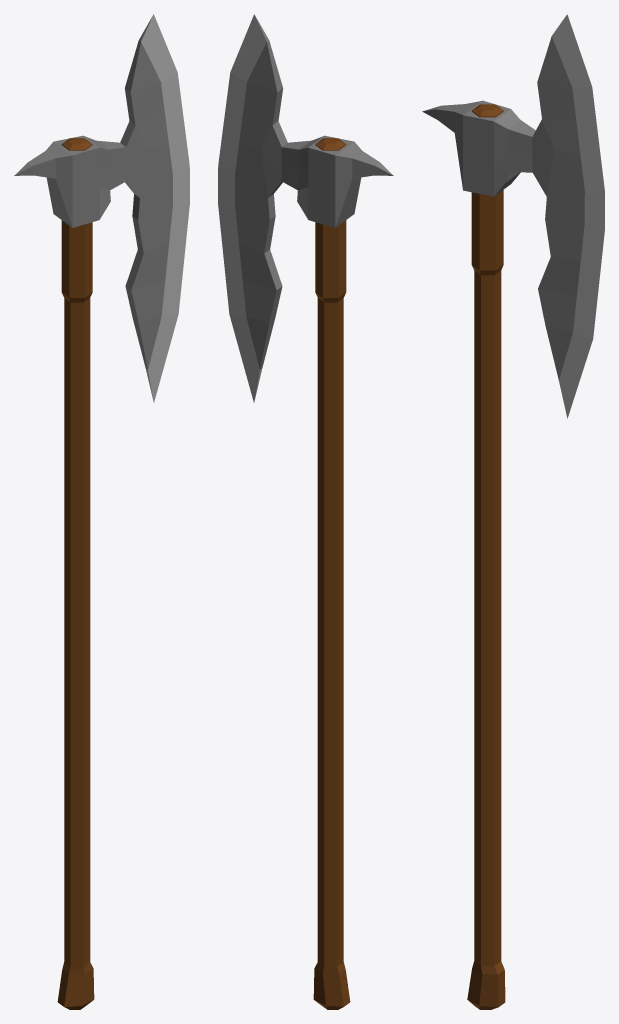
File: WarAxe.fbx
3 views of the same model, side by side, from view 1: azimuth 30°, elevation 25°; view 2: azimuth 150°, elevation 25°; view 3: azimuth 330°, elevation 25° (orthographic). The views are drawn at different scales.
Parts seen in each view (by area): view 1: War Axe; view 2: War Axe; view 3: War Axe.
Part boxes in pixels (left/top/right/bottom): War Axe: left=14, top=14, right=189, bottom=1009; War Axe: left=218, top=14, right=393, bottom=1009; War Axe: left=422, top=14, right=604, bottom=1009.
Size of the model in its own units: 37.52 by 198 by 7.06.
